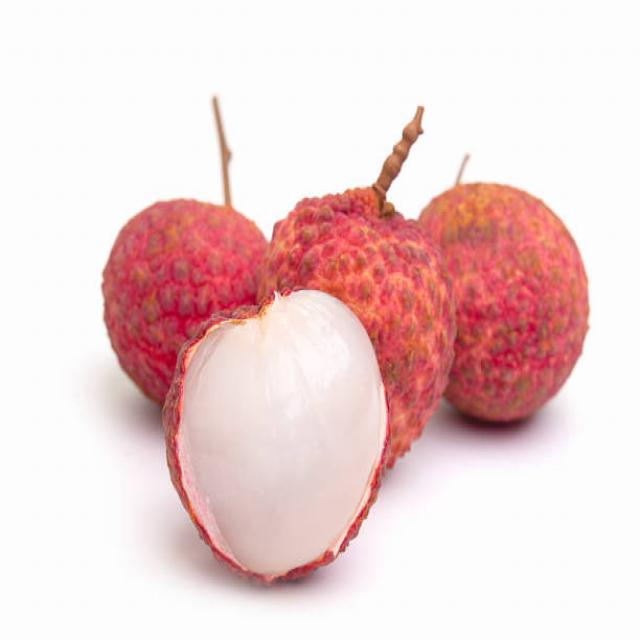lychee: (135, 258, 415, 591)
